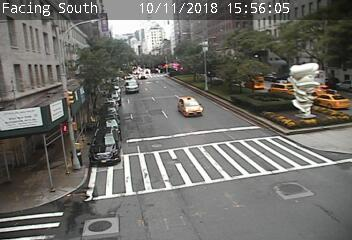car: (178, 97, 203, 117)
